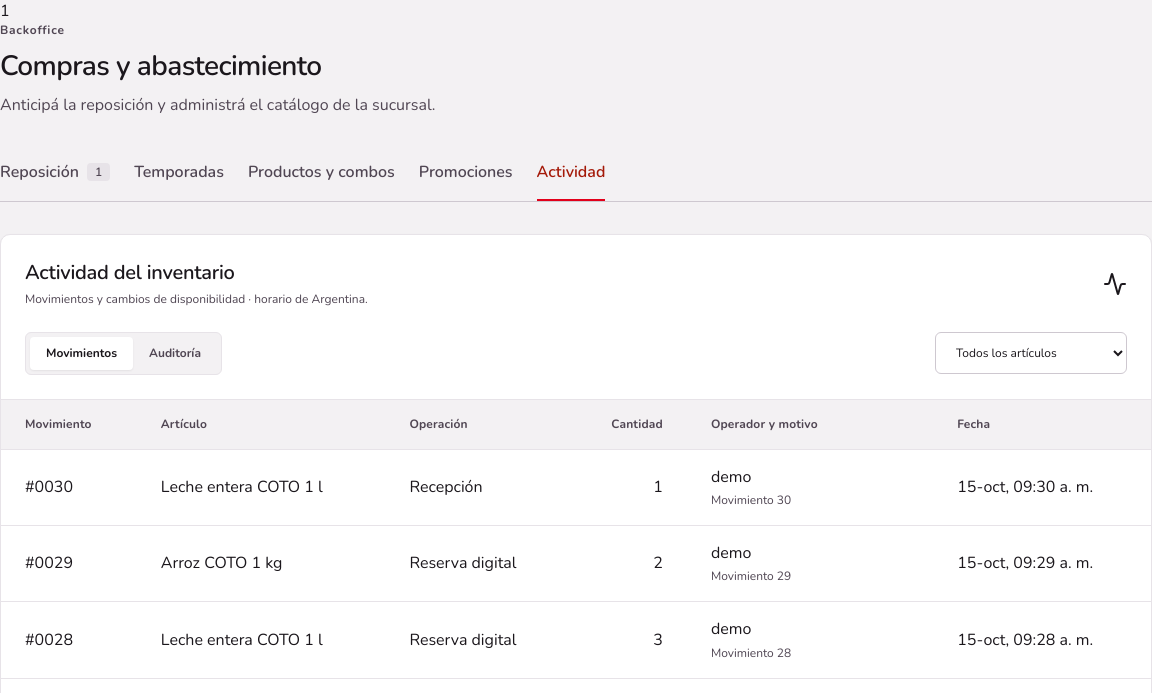
Test: actividad del inventario › la auditoría se pide sólo al abrirla
Expected: the text with test id "revision" is shown, [0,0,10,22]
Click the button "Auditoría".
click(175, 353)  # box [133,337,217,370]
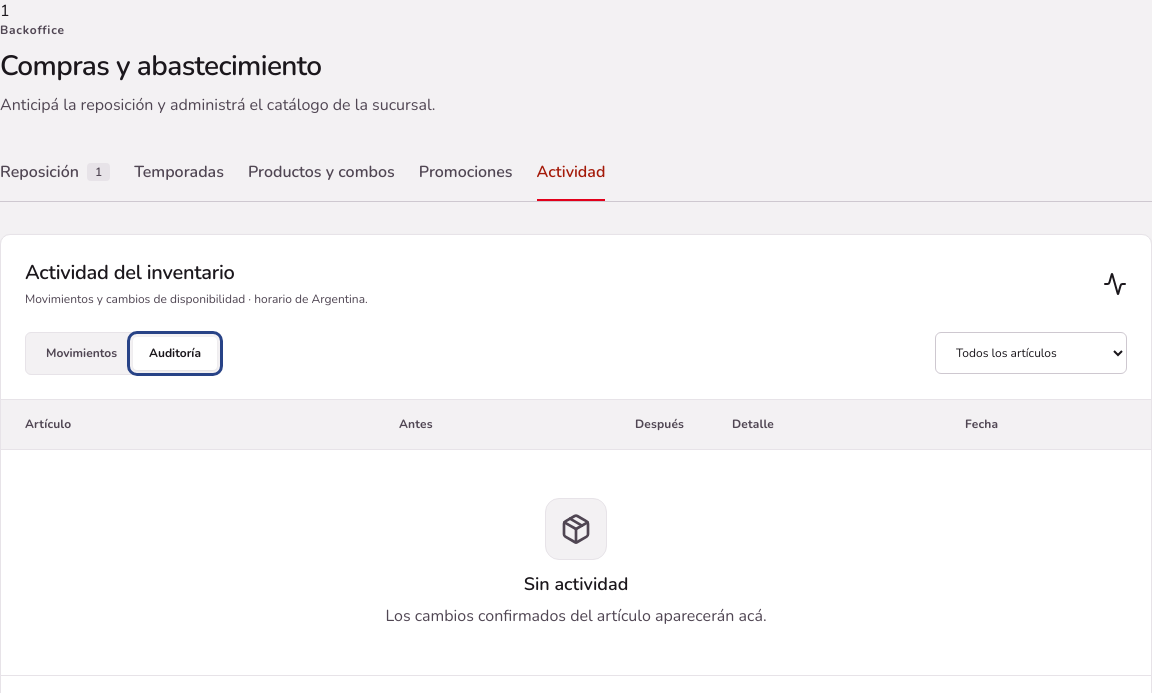
Now the heading "Sin actividad" is shown, box [524,572,628,597]
